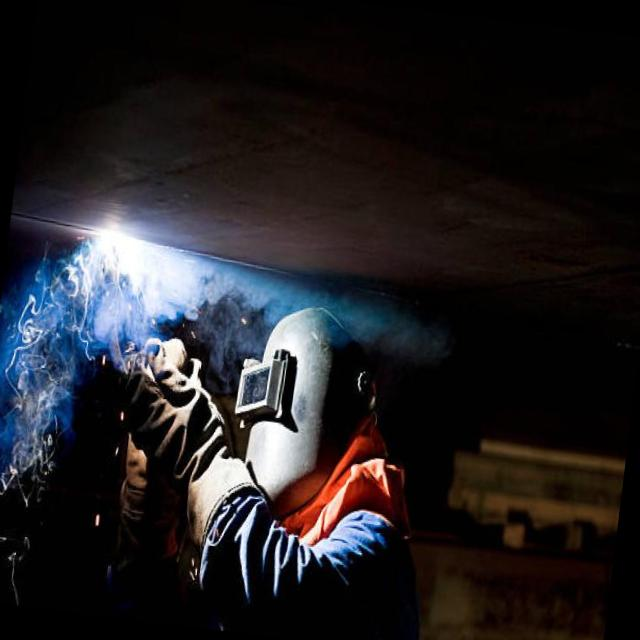Gloves: (106, 325, 281, 546)
